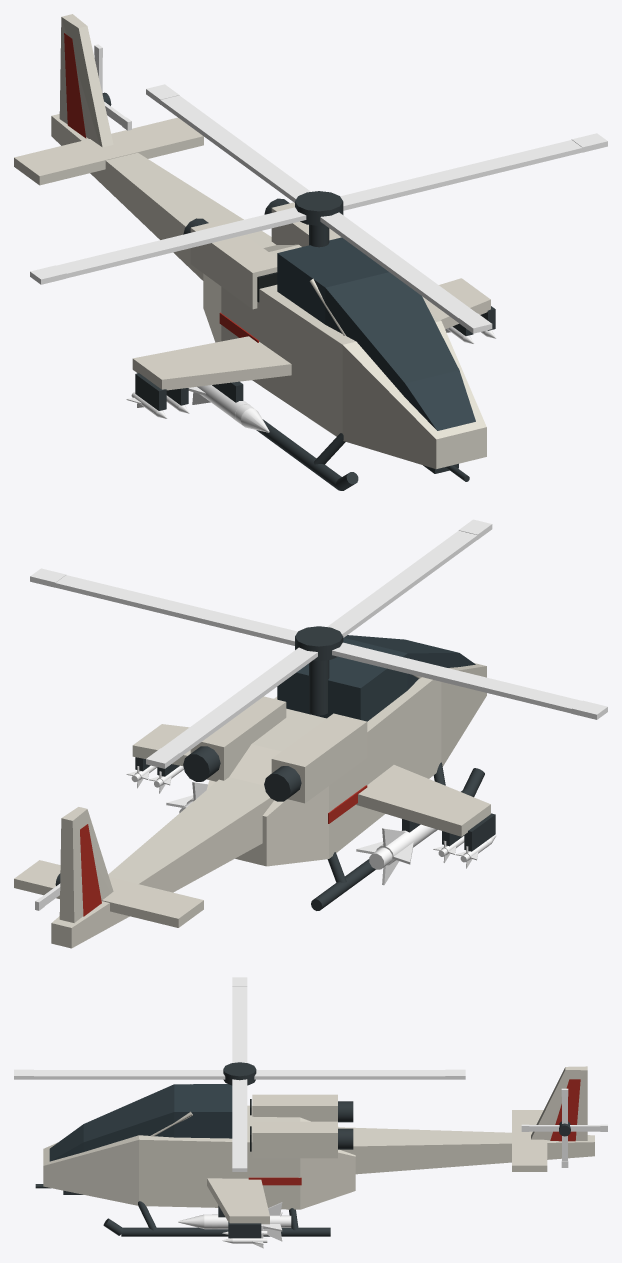
3 views of the same model, one above another, from view 1: azimuth 30°, elevation 25°; view 2: azimuth 150°, elevation 25°; view 3: azimuth 270°, elevation 25° (orthographic). The views are drawn at different scales.
Visible parts, largest first — view 1: helicopter-fleet-armor, helicopter-fleet-glass, helicopter-fleet-machine, blade-arm-2-painted, blade-arm-0-painted, blade-arm-3-painted, blade-arm-1-painted, helicopter-fleet-red, store-left-large-painted, rotor-main-fleet-machine; view 2: helicopter-fleet-armor, helicopter-fleet-glass, helicopter-fleet-machine, blade-arm-2-painted, blade-arm-0-painted, blade-arm-1-painted, blade-arm-3-painted, store-left-large-painted, helicopter-fleet-red, rotor-main-fleet-machine; view 3: helicopter-fleet-armor, helicopter-fleet-glass, helicopter-fleet-machine, blade-arm-1-painted, blade-arm-3-painted, blade-arm-0-painted, blade-arm-2-painted, store-right-large-painted, helicopter-fleet-red, rotor-main-fleet-machine.
Part boxes in pixels (<box>): helicopter-fleet-armor: <box>14,14,490,469</box>; helicopter-fleet-glass: <box>277,237,475,430</box>; helicopter-fleet-machine: <box>135,198,495,490</box>; blade-arm-2-painted: <box>30,207,306,284</box>; blade-arm-0-painted: <box>340,133,607,210</box>; blade-arm-3-painted: <box>320,212,492,333</box>; blade-arm-1-painted: <box>146,84,310,202</box>; helicopter-fleet-red: <box>64,33,258,342</box>; store-left-large-painted: <box>188,385,269,432</box>; rotor-main-fleet-machine: <box>295,191,343,225</box>; helicopter-fleet-armor: <box>14,663,490,948</box>; helicopter-fleet-glass: <box>277,635,475,721</box>; helicopter-fleet-machine: <box>135,660,495,910</box>; blade-arm-2-painted: <box>332,642,607,719</box>; blade-arm-0-painted: <box>30,568,297,645</box>; blade-arm-1-painted: <box>146,647,317,768</box>; blade-arm-3-painted: <box>327,519,492,637</box>; store-left-large-painted: <box>356,824,437,885</box>; helicopter-fleet-red: <box>80,785,367,916</box>; rotor-main-fleet-machine: <box>295,626,343,660</box>; helicopter-fleet-armor: <box>43,1066,594,1224</box>; helicopter-fleet-glass: <box>49,1084,232,1161</box>; helicopter-fleet-machine: <box>103,1101,353,1238</box>; blade-arm-1-painted: <box>254,1069,465,1079</box>; blade-arm-3-painted: <box>14,1069,225,1079</box>; blade-arm-0-painted: <box>232,1079,247,1171</box>; blade-arm-2-painted: <box>232,977,247,1062</box>; store-right-large-painted: <box>178,1202,291,1241</box>; helicopter-fleet-red: <box>248,1079,580,1185</box>; rotor-main-fleet-machine: <box>223,1062,256,1085</box>.
Size of the model in its own units: 50.42 by 18.06 by 66.32.
